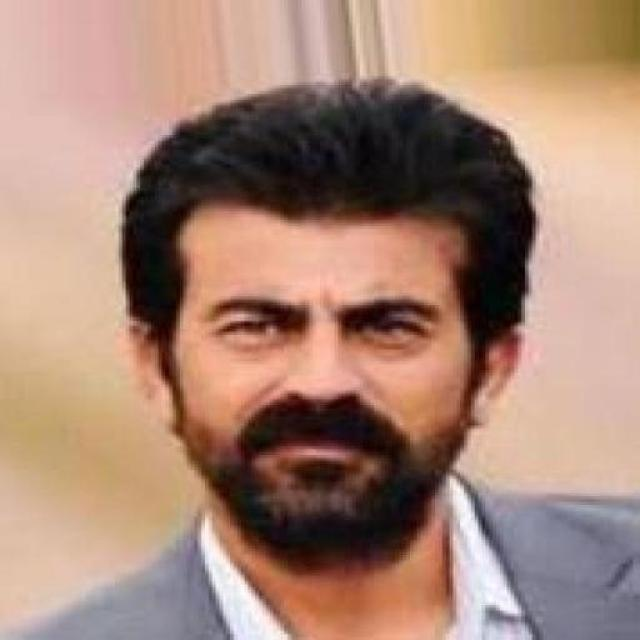bareface: (116, 99, 477, 549)
